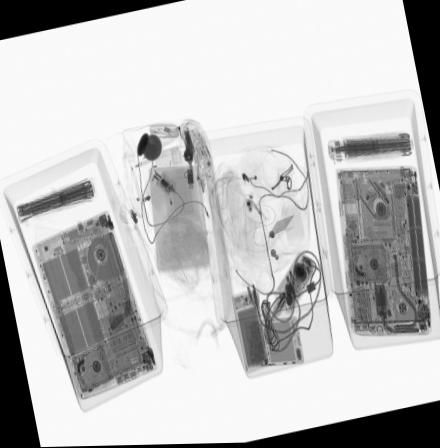Powerbank: (230, 291, 269, 373)
